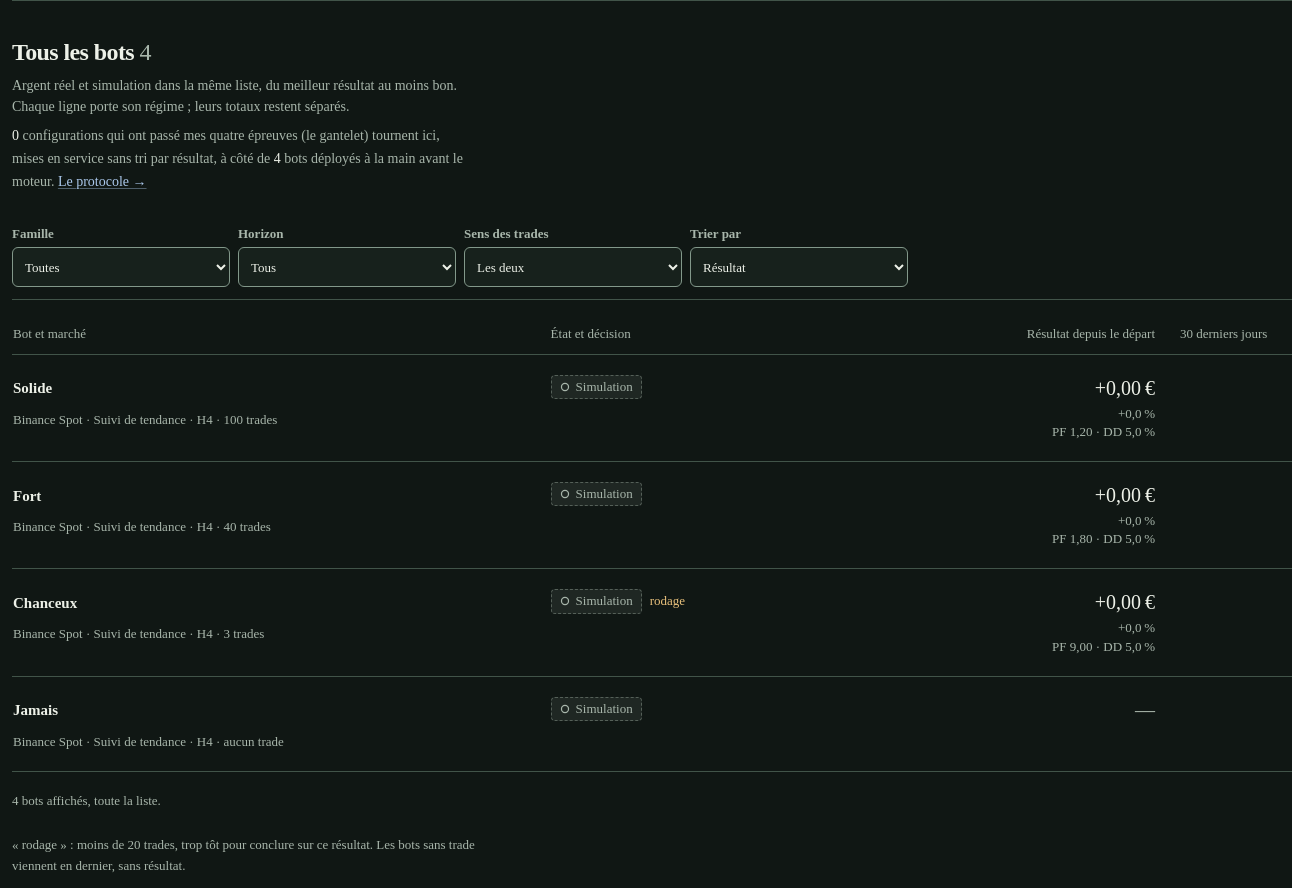
FleetRegister — sort › sorts by profit factor in the same single list, the untraded last
Select "Facteur de profit" in the dropdown labelled "Trier par". click: (799, 267)
box: [690,247,908,287]
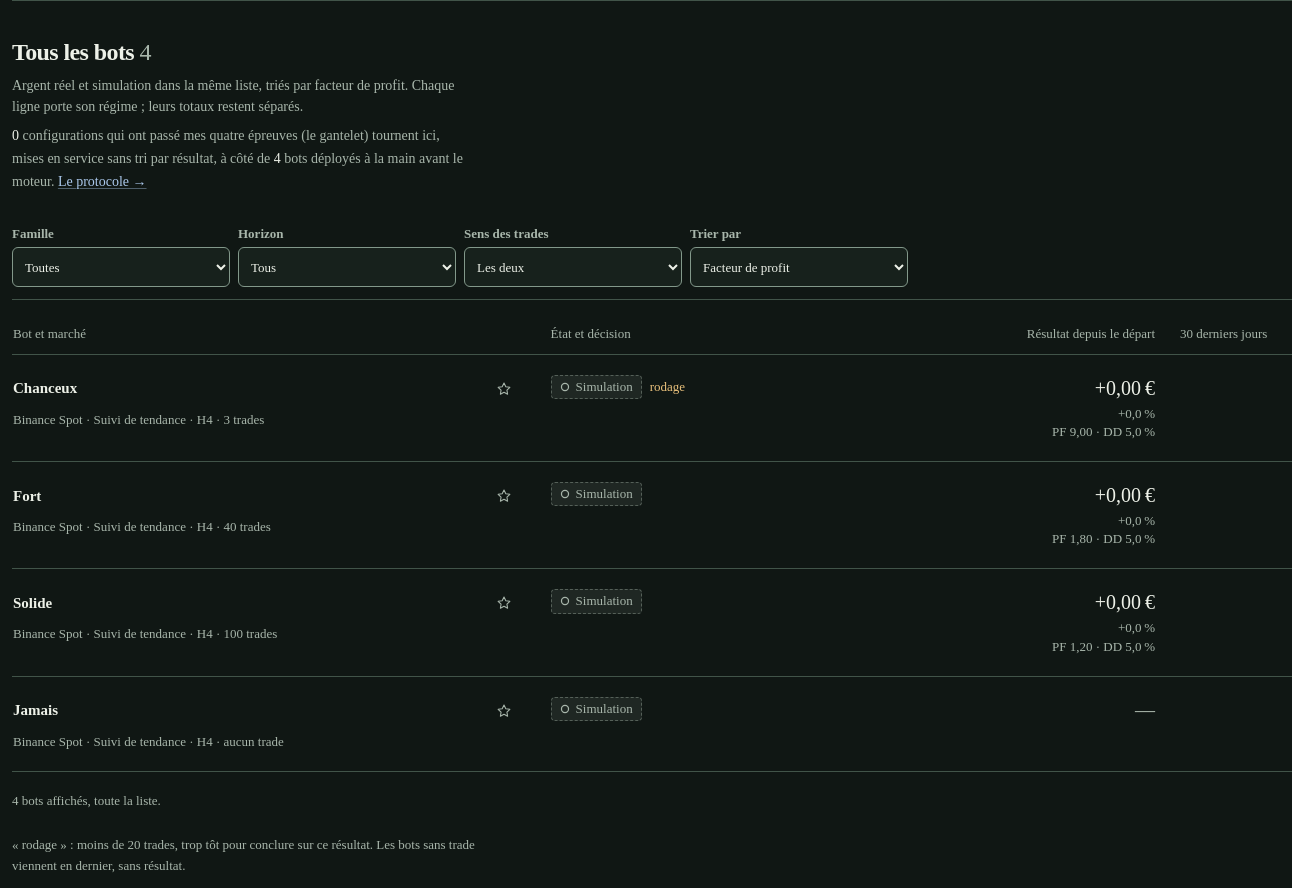
Check: the text with test id "fleet-sort-line" shows "triés par facteur de profit", box [266,78,405,93]
